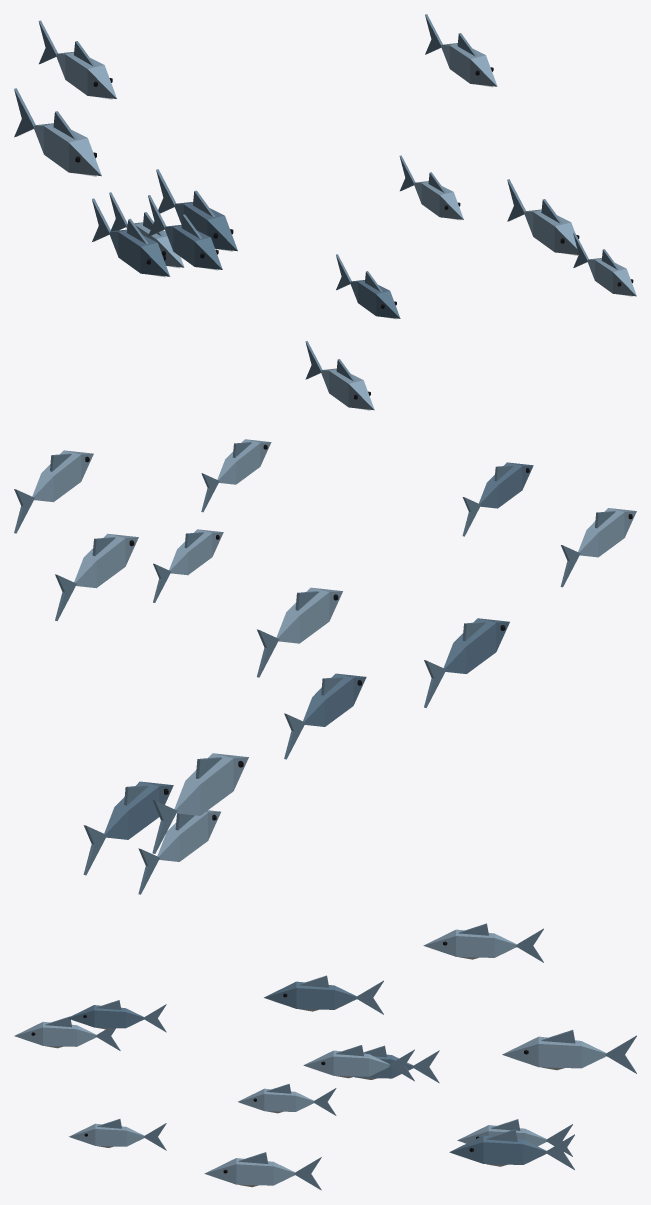
The model's file is fish_shoal.glb.
3 renders of one model, top to bottom at view 1: azimuth 30°, elevation 25°; view 2: azimuth 150°, elevation 25°; view 3: azimuth 270°, elevation 25°, orthographic. The views are drawn at different scales.
Visible parts, largest first — view 1: sea_fish_school; view 2: sea_fish_school; view 3: sea_fish_school.
Boxes of the visible parts, <box> form: sea_fish_school: <box>14,14,636,410</box>; sea_fish_school: <box>14,439,636,894</box>; sea_fish_school: <box>14,923,636,1190</box>.
Bounding box in the file's own units: 1.3 × 0.8012 × 2.27.
